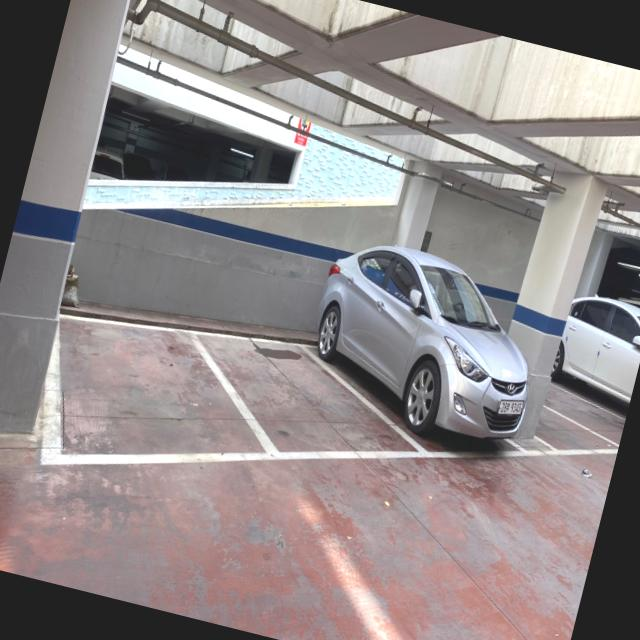car: (301, 239, 558, 466), (537, 284, 640, 432)
free: (20, 297, 303, 508), (185, 326, 442, 495), (520, 375, 627, 470)
